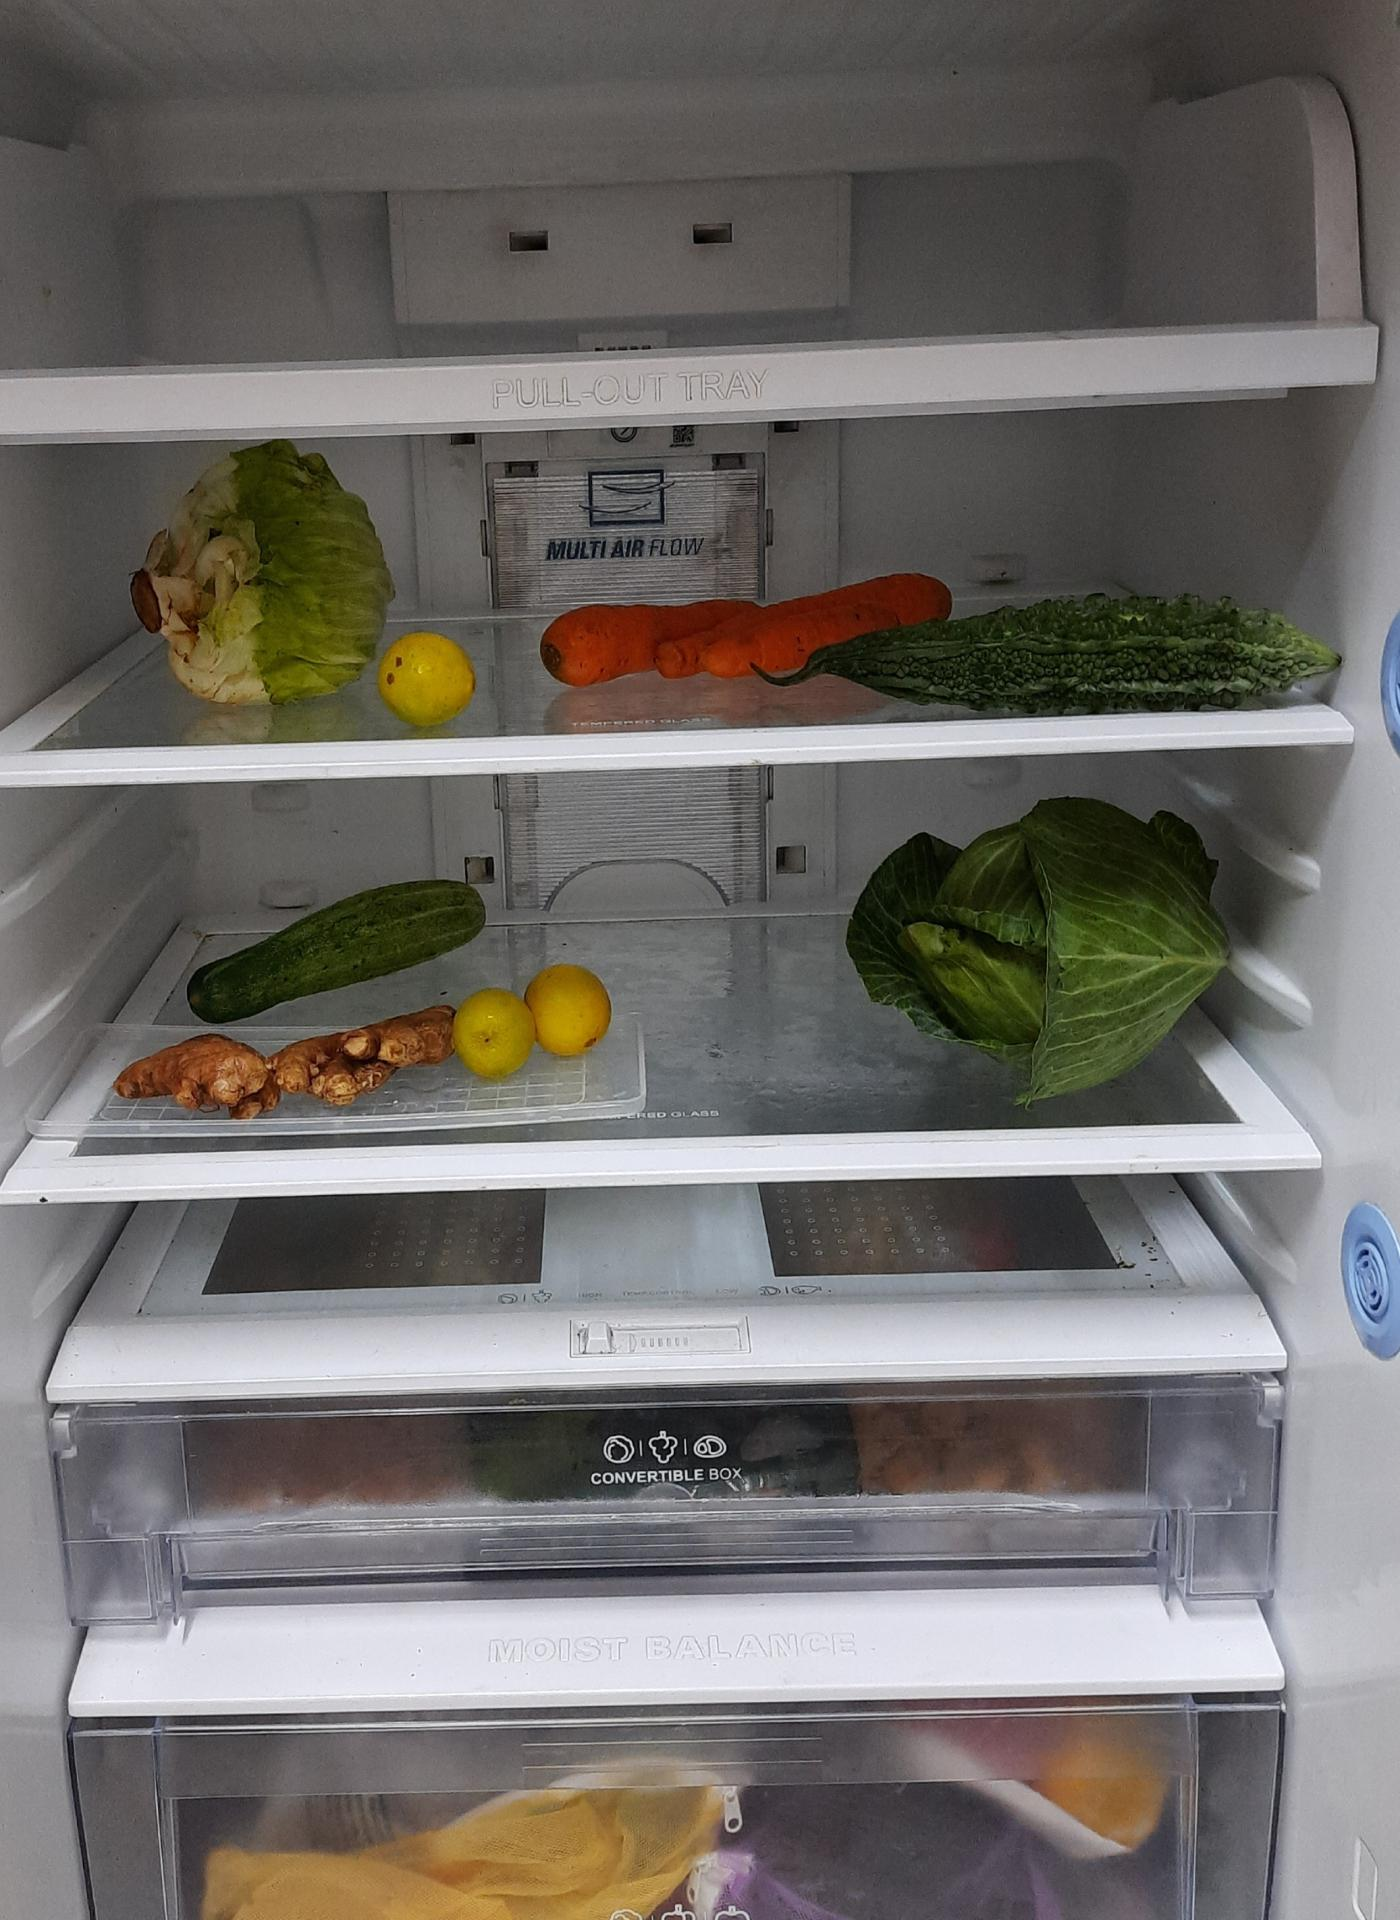bitter gourd: (777, 598, 1346, 711)
cabbage: (850, 798, 1239, 1097)
carrots: (541, 572, 966, 684)
cucumber: (186, 882, 486, 1029)
ginger: (113, 1030, 477, 1127)
lemon: (455, 966, 616, 1081), (377, 626, 480, 721)
lettuce: (136, 437, 394, 708)
